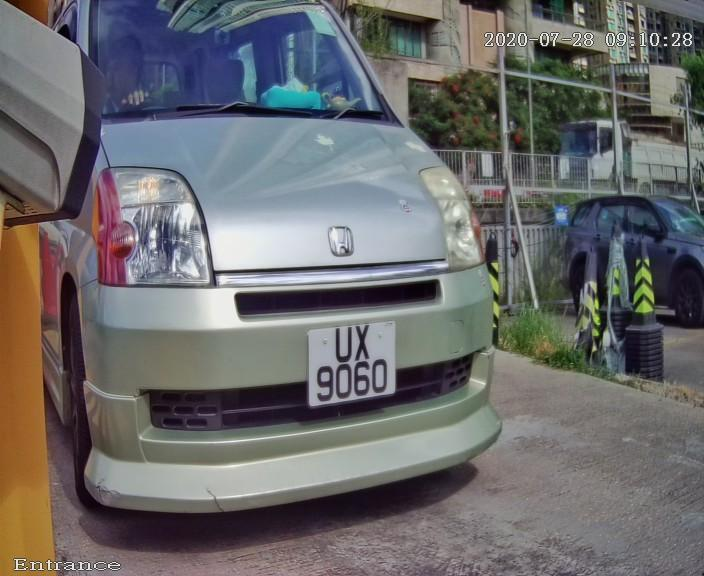privatecar: (26, 21, 541, 528)
